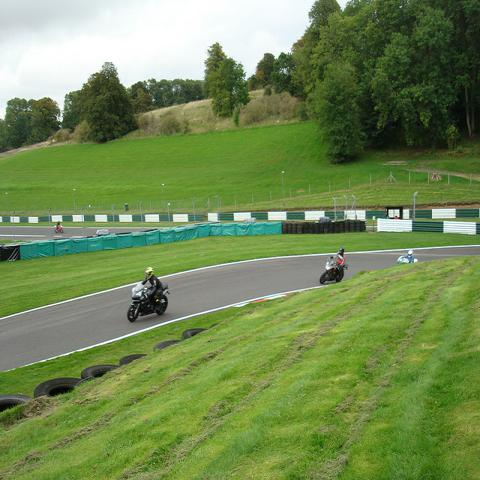motorcycle: (126, 282, 171, 321), (319, 255, 339, 283), (336, 265, 349, 282), (396, 256, 419, 264), (54, 224, 63, 232)
